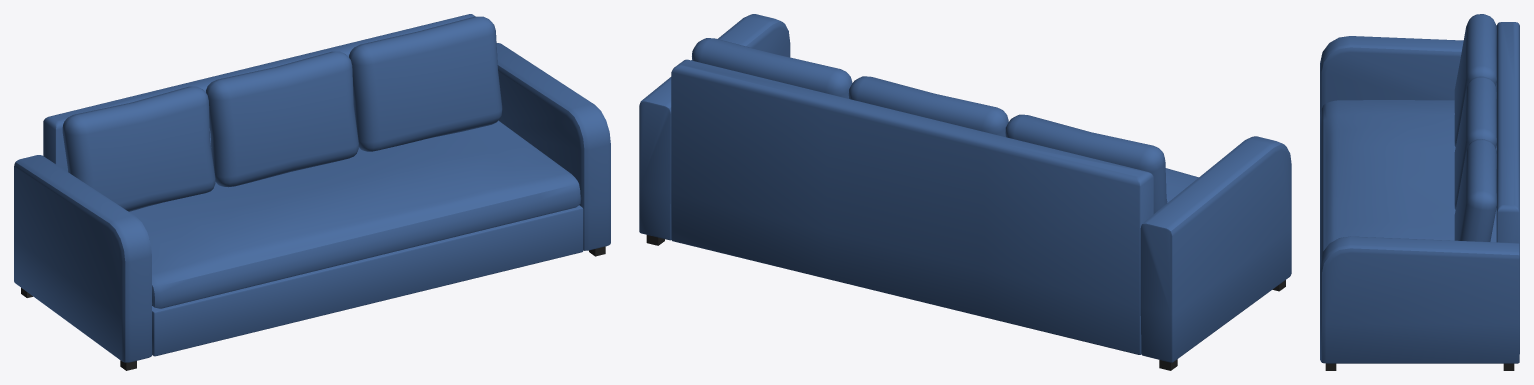
File: Sofa.fbx
3 renders of one model, left to right at view 1: azimuth 30°, elevation 25°; view 2: azimuth 150°, elevation 25°; view 3: azimuth 270°, elevation 25°, orthographic. The views are drawn at different scales.
Parts seen in each view (by area): view 1: Sofa; view 2: Sofa; view 3: Sofa.
Boxes of the visible parts, box(x1,y1,x2,y2) form: Sofa: box(14, 14, 610, 370); Sofa: box(639, 14, 1291, 370); Sofa: box(1320, 14, 1519, 370).
Size of the model in its own units: 375 by 135 by 148.
